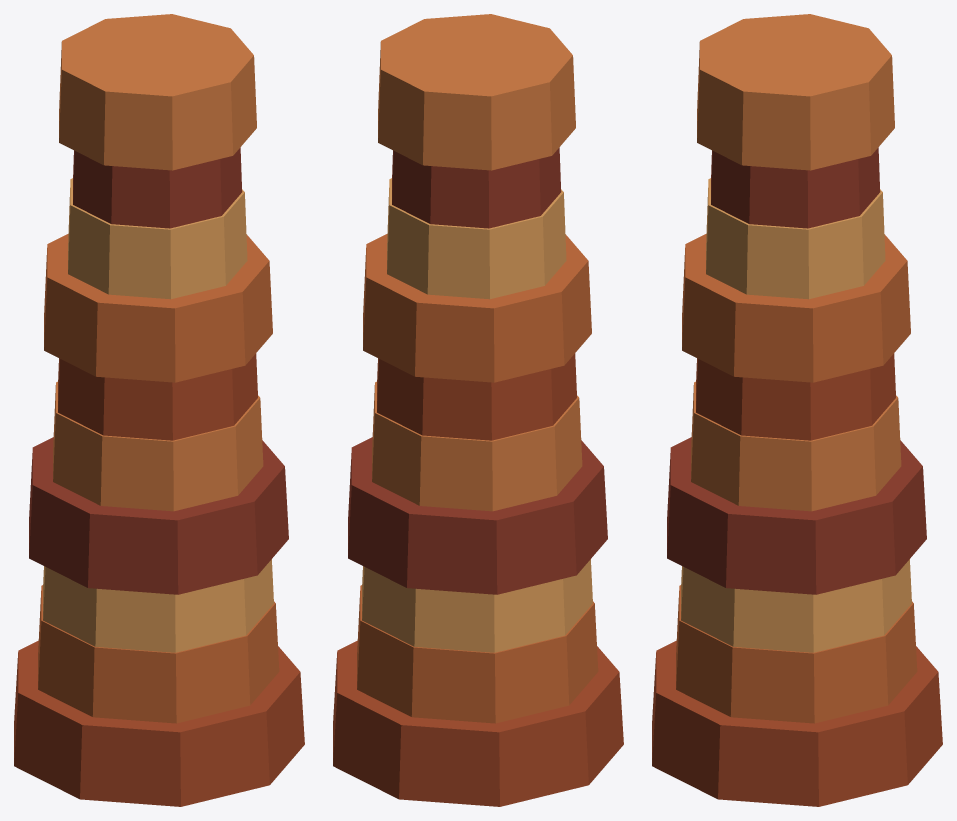
Rendered from CanyonButte.glb.
3 views of the same model, side by side, from view 1: azimuth 30°, elevation 25°; view 2: azimuth 150°, elevation 25°; view 3: azimuth 270°, elevation 25° (orthographic).
Parts seen in each view (by area): view 1: CanyonButte; view 2: CanyonButte; view 3: CanyonButte.
Boxes of the visible parts, x1,y1,x2,y2 form: CanyonButte: [14, 14, 304, 806]; CanyonButte: [333, 14, 623, 806]; CanyonButte: [652, 14, 942, 806].
Bounding box in the file's own units: 2.5 × 6.44 × 2.46.
